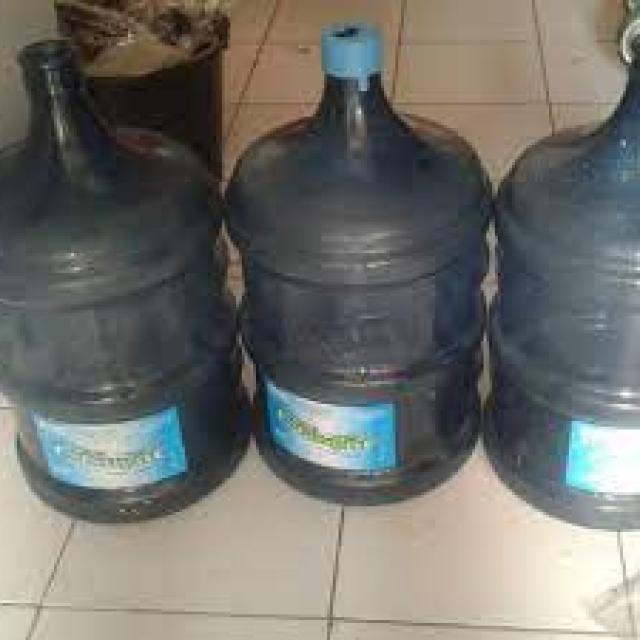Galon: (225, 17, 495, 506), (3, 34, 256, 524), (484, 0, 640, 532)
